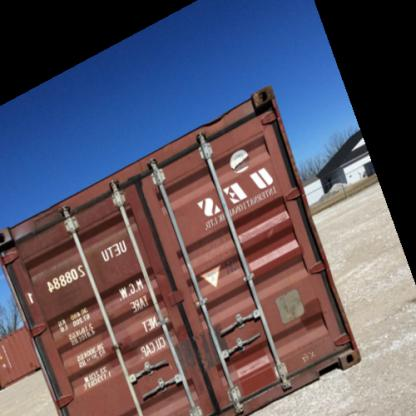Damage: (45, 263, 84, 328), (263, 206, 291, 256), (149, 245, 174, 290), (252, 82, 276, 112), (205, 108, 230, 131)
